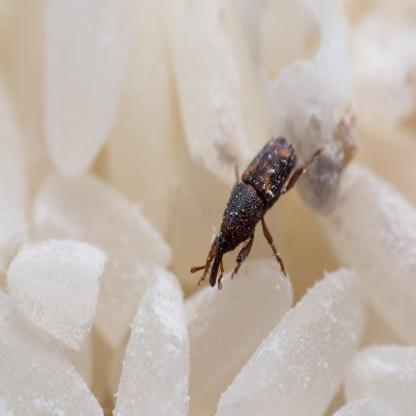rice-bug: (208, 133, 304, 288)
